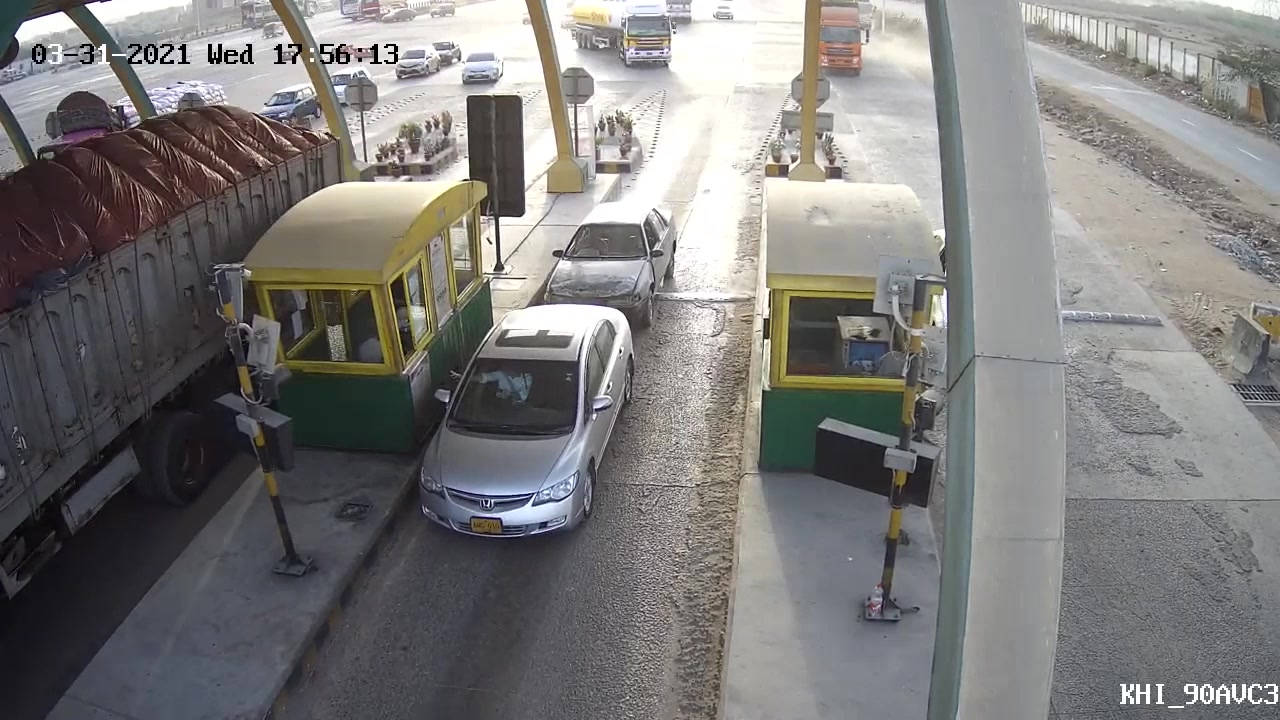F1: (407, 302, 638, 543)
